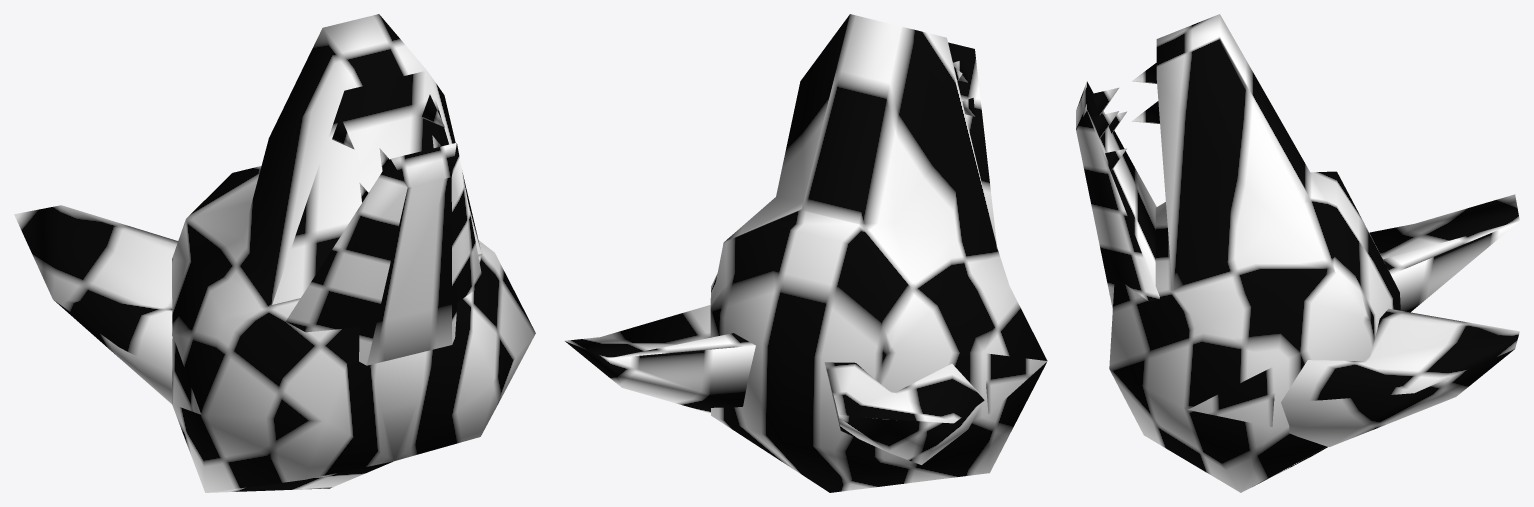
Rendered from infaunanhodo.dae.
3 renders of one model, left to right at view 1: azimuth 30°, elevation 25°; view 2: azimuth 150°, elevation 25°; view 3: azimuth 270°, elevation 25°, orthographic. The views are drawn at different scales.
Parts seen in each view (by area): view 1: face; view 2: face; view 3: face.
Part boxes in pixels (left/top/right/bottom): face: left=14, top=14, right=535, bottom=492; face: left=565, top=14, right=1047, bottom=492; face: left=1076, top=14, right=1519, bottom=492.
Bounding box in the file's own units: 1.19 × 1.31 × 1.43.
Materials: 1 (1 with a texture image).
